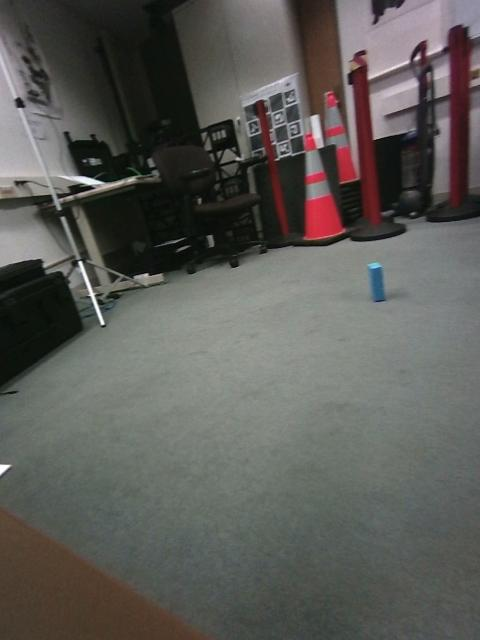block: (325, 260, 366, 312)
